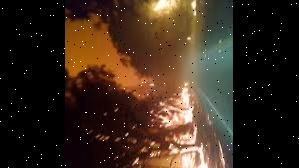fire: (150, 89, 221, 168)
